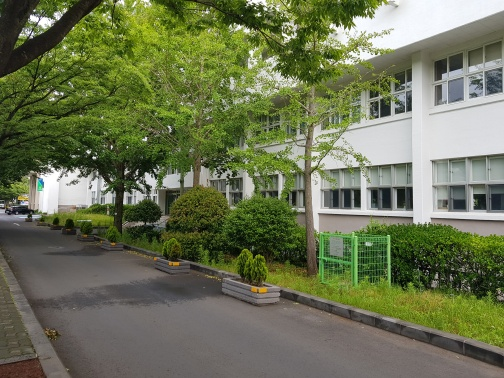Main Building of University: (29, 33, 504, 240)
